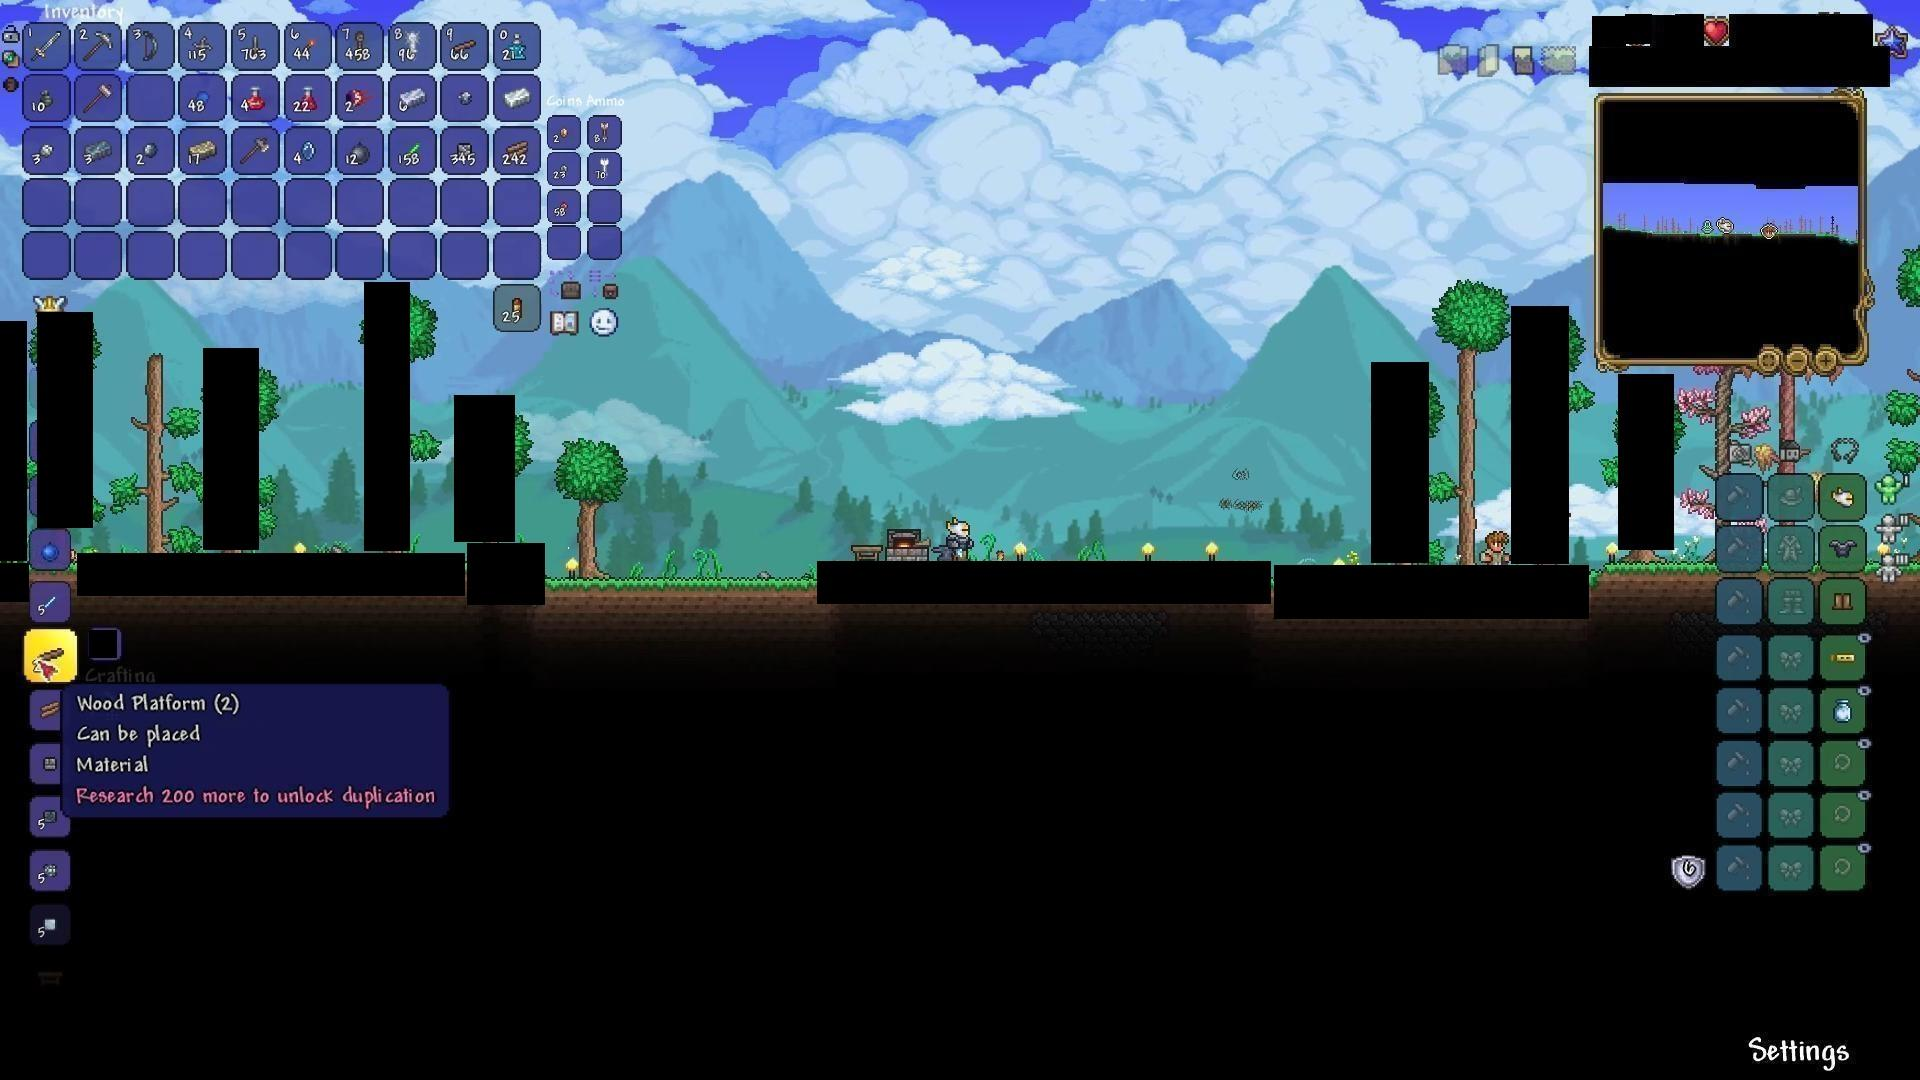breastplate: (1830, 539, 1857, 559)
dirt: (549, 574, 814, 603), (1594, 553, 1714, 589)
heart: (1702, 17, 1733, 51)
helmet: (1829, 487, 1855, 510)
legs: (1830, 589, 1857, 615)
tree: (1429, 277, 1502, 562), (553, 434, 620, 572), (132, 345, 175, 551)
wood: (500, 138, 530, 167), (36, 698, 61, 720)
workbench: (849, 538, 886, 563)
